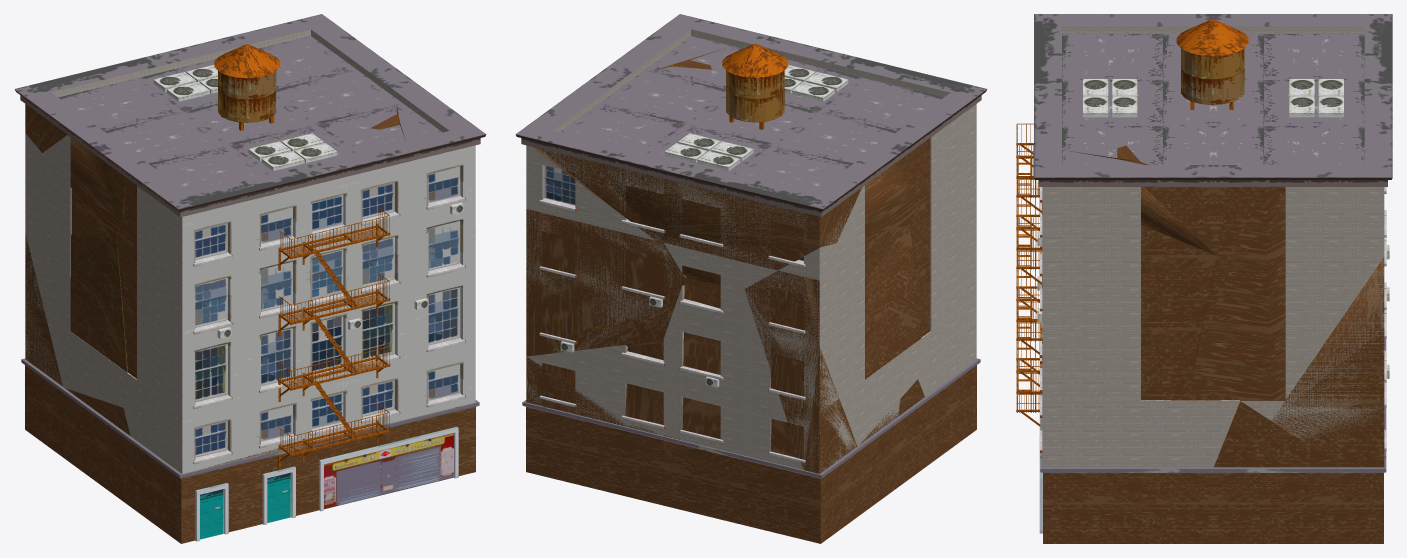
The model's file is A09_Destr.FBX.
3 renders of one model, left to right at view 1: azimuth 30°, elevation 25°; view 2: azimuth 150°, elevation 25°; view 3: azimuth 270°, elevation 25°, orthographic. The views are drawn at different scales.
Parts seen in each view (by area): view 1: K_Building_A09_00_Part_14, K_Building_A09_00_Part_13, K_Building_A09_00_Part_11, K_Building_A09_00_Part_8, K_Building_A09_00_Part_9, K_Building_A09_00_Part_4, K_Building_A09_00_Part_2, K_Building_A09_00_Part_10, K_Building_A09_00_Part_5, K_Building_A09_00_Part_3, K_Building_A09_00_Part_15, K_Building_A09_00_Part_7 (+1 smaller); view 2: K_Building_A09_00_Part_14, K_Building_A09_00_Part_7, K_Building_A09_00_Part_1, K_Building_A09_00_Part_9, K_Building_A09_00_Part_12, K_Building_A09_00_Part_8, K_Building_A09_00_Part_2, K_Building_A09_00_Part_15, K_Building_A09_00_Part_11, K_Building_A09_00_Part_13, K_Building_A09_00_Part_4, K_Building_A09_00_Part_5; view 3: K_Building_A09_00_Part_1, K_Building_A09_00_Part_13, K_Building_A09_00_Part_14, K_Building_A09_00_Part_6, K_Building_A09_00_Part_10, K_Building_A09_00_Part_8, K_Building_A09_00_Part_3, K_Building_A09_00_Part_4, K_Building_A09_00_Part_12, K_Building_A09_00_Part_5, K_Building_A09_00_Part_11.
Boxes of the visible parts, x1,y1,x2,y2 form: K_Building_A09_00_Part_14: (14,30,404,241); K_Building_A09_00_Part_13: (368,74,486,383); K_Building_A09_00_Part_11: (123,367,324,543); K_Building_A09_00_Part_8: (115,162,343,330); K_Building_A09_00_Part_9: (25,133,128,407); K_Building_A09_00_Part_4: (292,114,413,372); K_Building_A09_00_Part_2: (117,246,297,449); K_Building_A09_00_Part_10: (310,394,479,512); K_Building_A09_00_Part_5: (116,201,343,383); K_Building_A09_00_Part_3: (312,316,475,438); K_Building_A09_00_Part_15: (37,387,150,521); K_Building_A09_00_Part_7: (21,296,54,437); K_Building_A09_00_Part_14: (573,43,923,288); K_Building_A09_00_Part_7: (662,278,851,543); K_Building_A09_00_Part_1: (515,92,686,356); K_Building_A09_00_Part_9: (744,224,923,456); K_Building_A09_00_Part_12: (522,343,664,505); K_Building_A09_00_Part_8: (822,49,987,215); K_Building_A09_00_Part_2: (910,214,976,359); K_Building_A09_00_Part_15: (832,379,946,534); K_Building_A09_00_Part_11: (918,335,980,451); K_Building_A09_00_Part_13: (598,14,752,248); K_Building_A09_00_Part_4: (671,32,831,276); K_Building_A09_00_Part_5: (909,187,958,226); K_Building_A09_00_Part_1: (1193,142,1392,460); K_Building_A09_00_Part_13: (1016,139,1226,446); K_Building_A09_00_Part_14: (1079,14,1392,205); K_Building_A09_00_Part_6: (1154,370,1348,543); K_Building_A09_00_Part_10: (1016,376,1156,543); K_Building_A09_00_Part_8: (1016,14,1172,149); K_Building_A09_00_Part_3: (1016,293,1163,475); K_Building_A09_00_Part_4: (1016,92,1140,296); K_Building_A09_00_Part_12: (1333,314,1386,543); K_Building_A09_00_Part_5: (1016,143,1041,285); K_Building_A09_00_Part_11: (1016,287,1042,390).
Size of the model in its own units: 1611 by 2035 by 1567.
